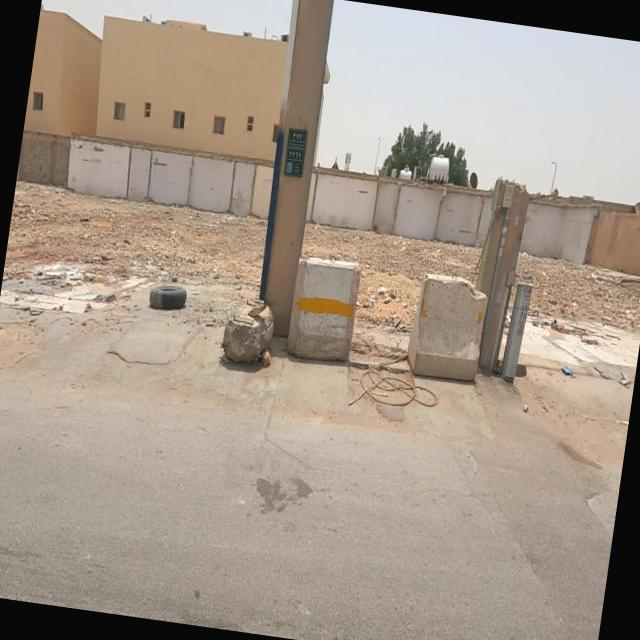debris: (114, 251, 216, 361)
